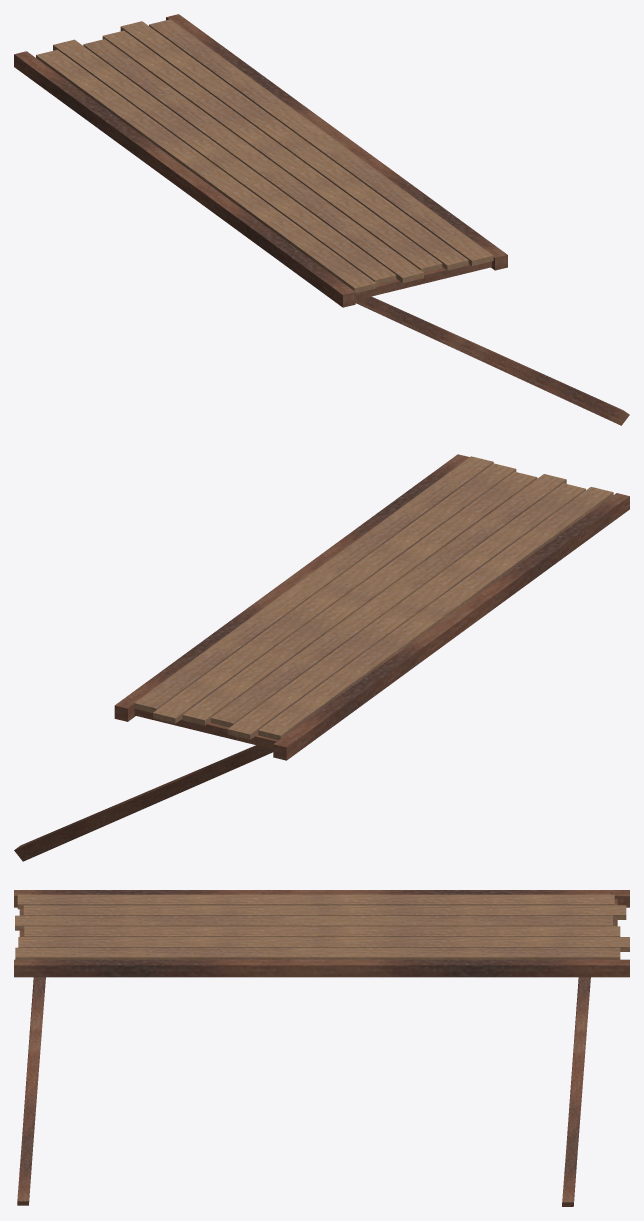
File: Scaffold001.fbx
3 renders of one model, top to bottom at view 1: azimuth 30°, elevation 25°; view 2: azimuth 150°, elevation 25°; view 3: azimuth 270°, elevation 25°, orthographic. The views are drawn at different scales.
Parts seen in each view (by area): view 1: CafoldTemplte.001; view 2: CafoldTemplte.001; view 3: CafoldTemplte.001.
Part boxes in pixels (left/top/right/bottom): CafoldTemplte.001: left=14, top=14, right=629, bottom=425; CafoldTemplte.001: left=14, top=454, right=629, bottom=861; CafoldTemplte.001: left=14, top=890, right=629, bottom=1206.
Bounding box in the file's own units: 656 × 435 × 1281.
